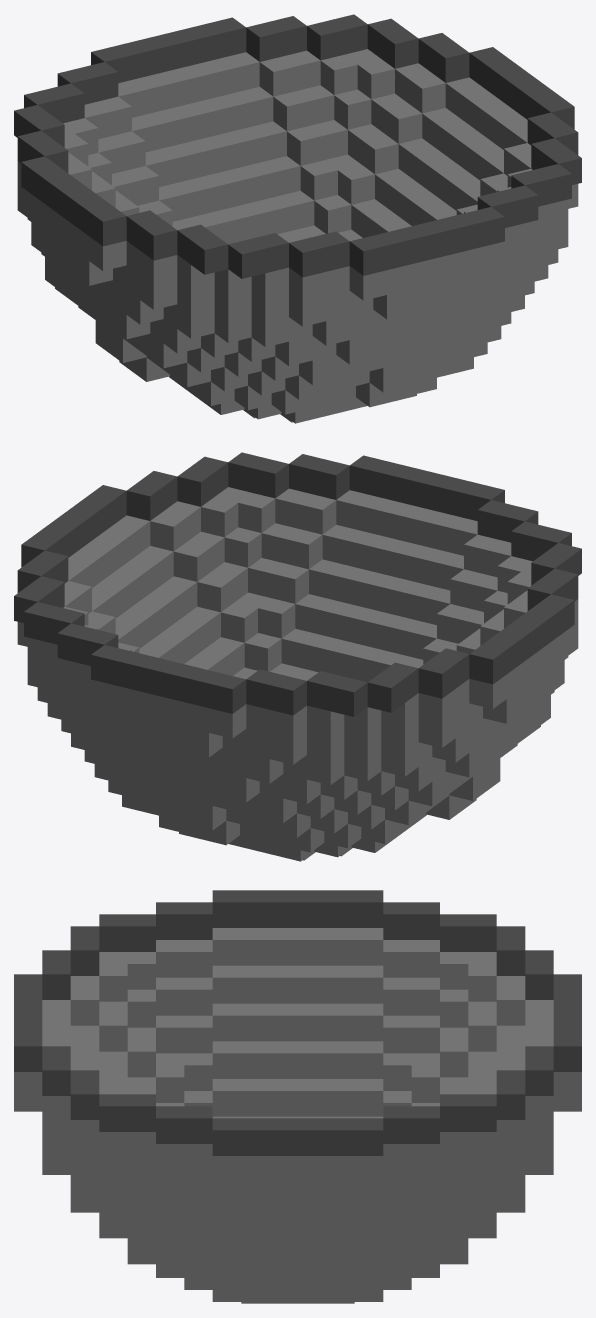
Rendered from bowl.obj.
3 renders of one model, top to bottom at view 1: azimuth 30°, elevation 25°; view 2: azimuth 150°, elevation 25°; view 3: azimuth 270°, elevation 25°, orthographic. The views are drawn at different scales.
Bounding box in the file's own units: 2 × 1 × 2.
1 material, 1 textured.
